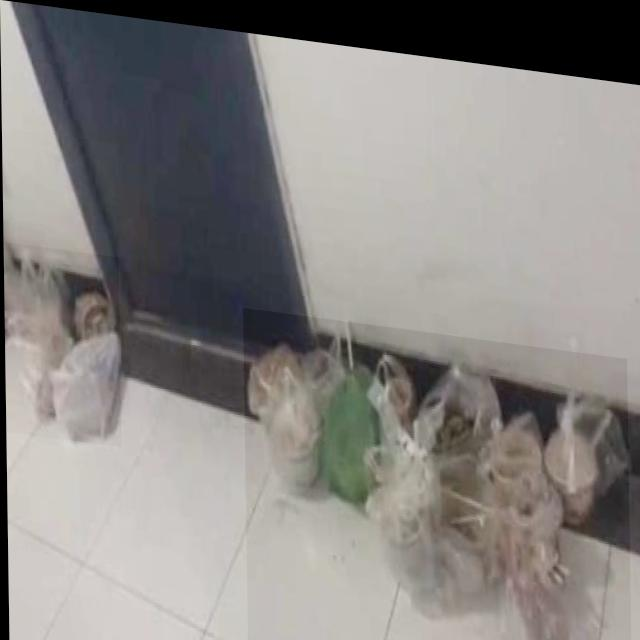garbage: (242, 301, 630, 640), (3, 242, 120, 444)
